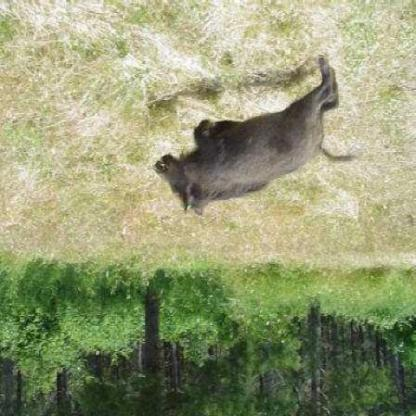boar: (147, 42, 359, 229)
